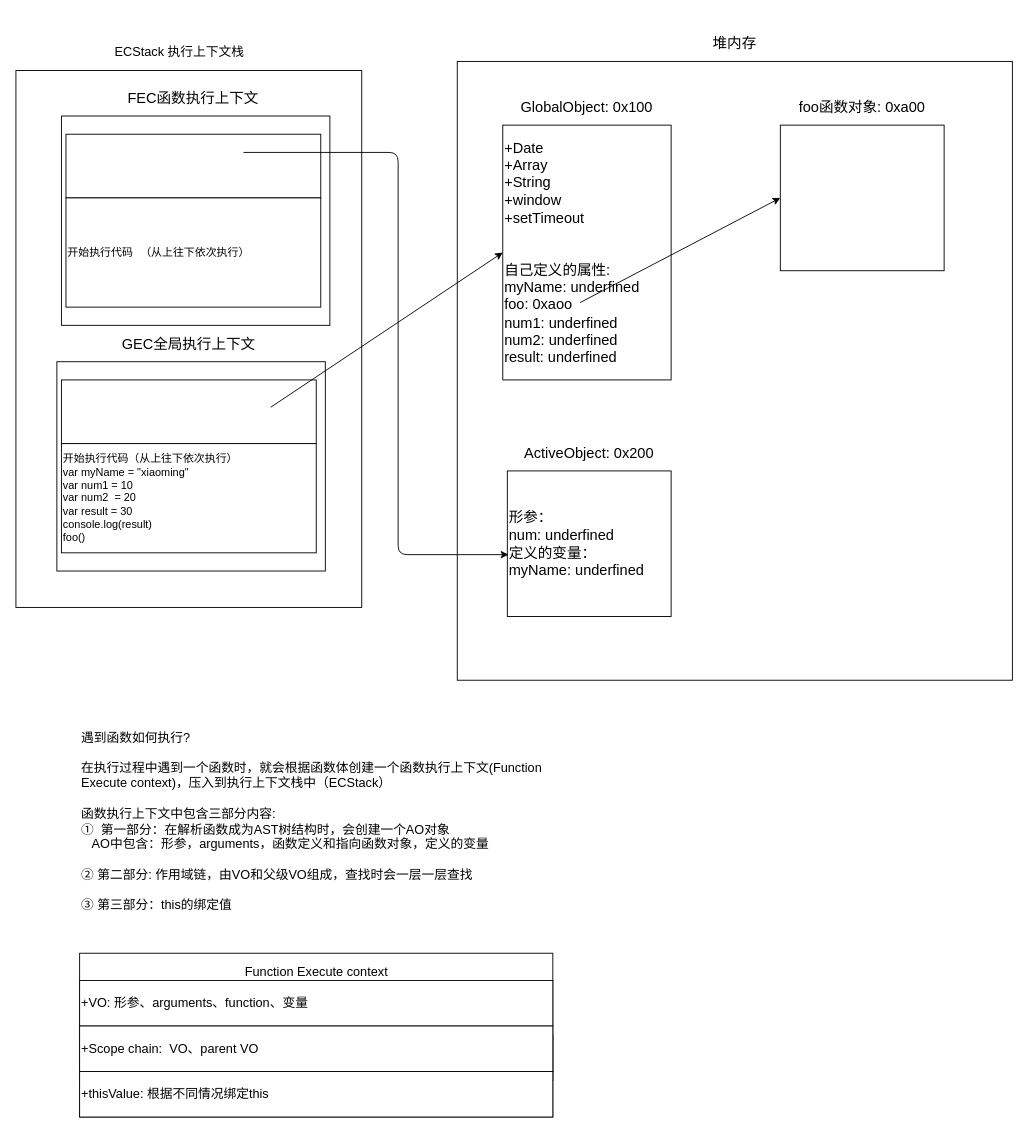
Image size: 1028x1133. Some labels were removed from this diagram. Each missing label, with the centre of its shape:
[[scope]] : parent scope 函数的执行体(代码块): the point at 861,197
VO（variable object）: AO scope chain：VO + GO thisValue: the point at 193,165
VO（variable object）: GO: the point at 188,411
